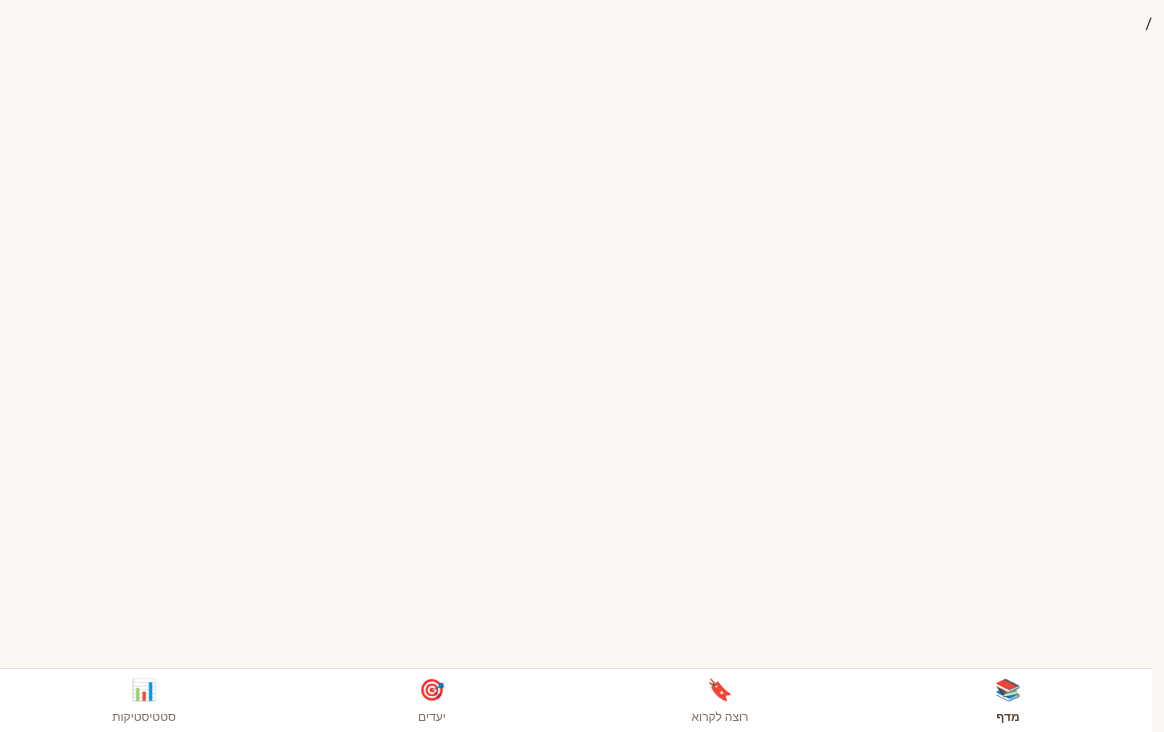
it: BottomNav › navigates to רוצה לקרוא
Click the link "🔖 רוצה לקרוא".
click(720, 700)  # box x1=692 y1=675 x2=748 y2=726
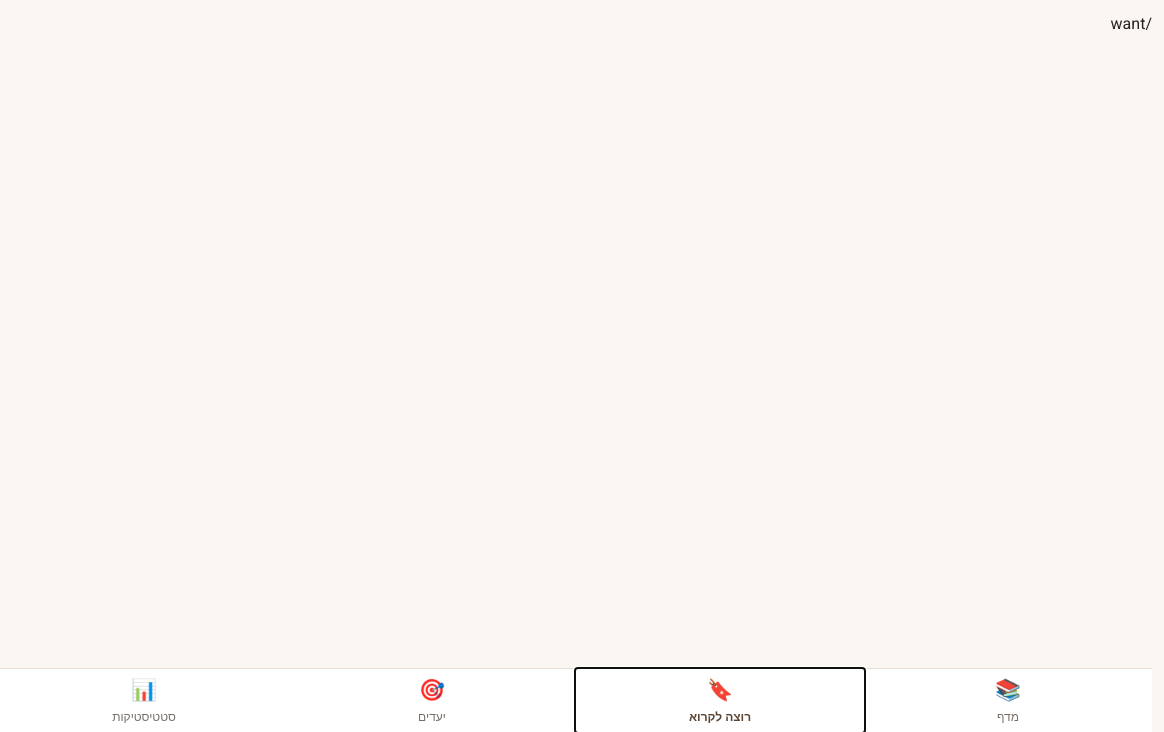
Expected: the text with test id "location" reads "/want", x1=1111 y1=12 x2=1152 y2=36
